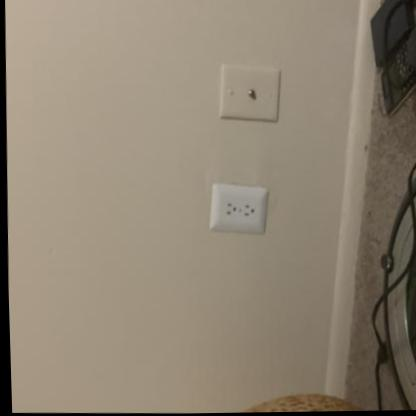OUTLET: (207, 185, 267, 233)
